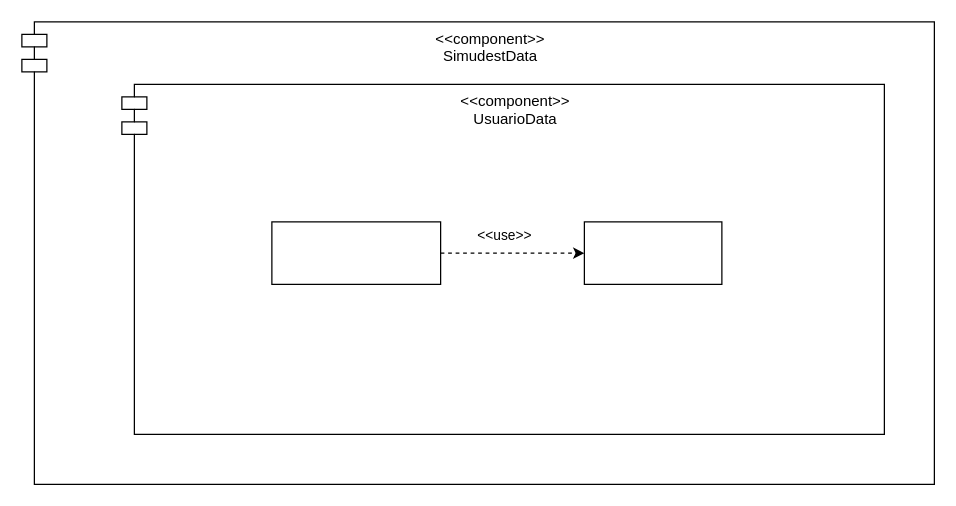
Image size: 956x506. Some labels were removed from this diagram. Here are the shapes that lost their labels. From the top down, the box of each, then its label:
(271, 221, 441, 284): <<Repository>> UsuarioRepository
(583, 221, 722, 284): <<Entity>> Usuario
